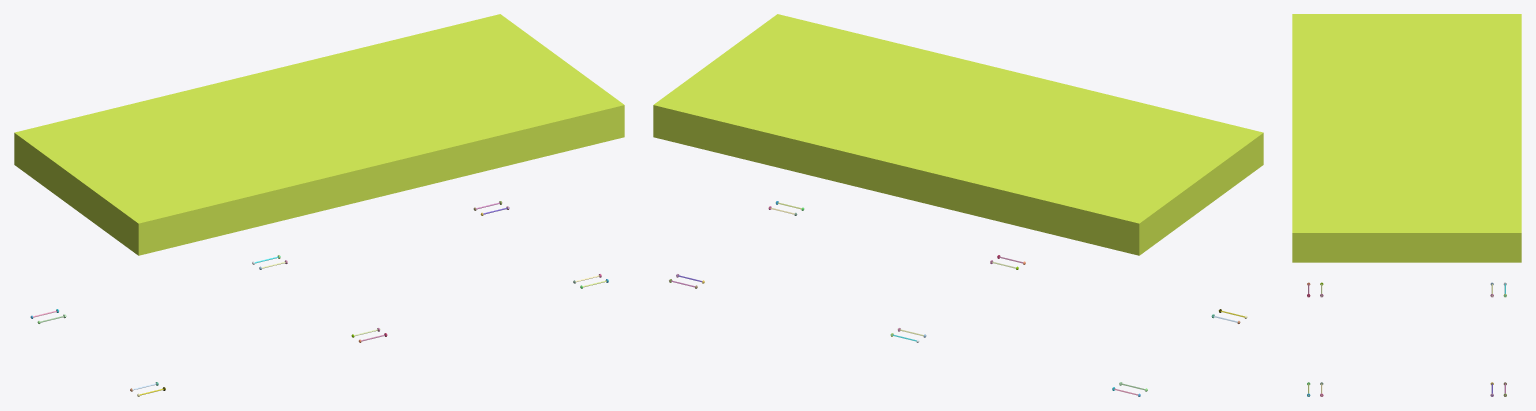
The picture shows the model from 3 angles, left to right: view 1: azimuth 30°, elevation 25°; view 2: azimuth 150°, elevation 25°; view 3: azimuth 270°, elevation 25°; orthographic projection. The views are drawn at different scales.
Parts seen in each view (by area): view 1: Object_3; view 2: Object_3; view 3: Object_3.
Boxes of the visible parts, <box> form: Object_3: <box>14,14,624,255</box>; Object_3: <box>653,14,1263,255</box>; Object_3: <box>1292,14,1521,262</box>.
Size of the model in its own units: 1 by 0.3576 by 0.443.
